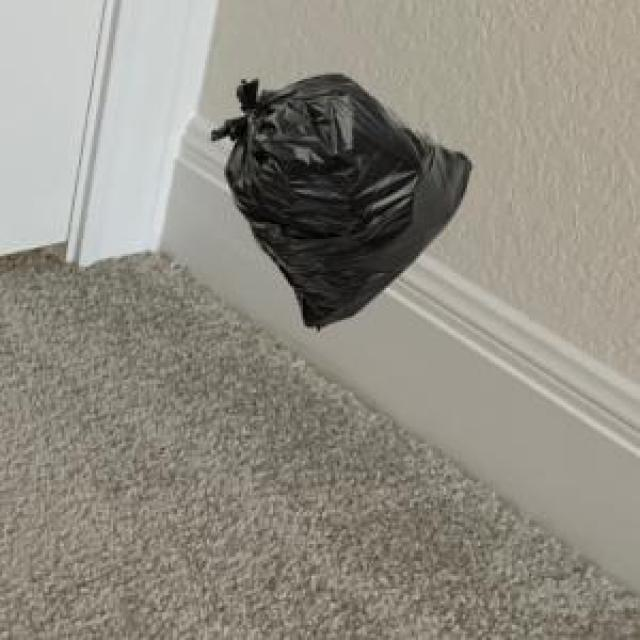waste: (211, 75, 471, 328)
